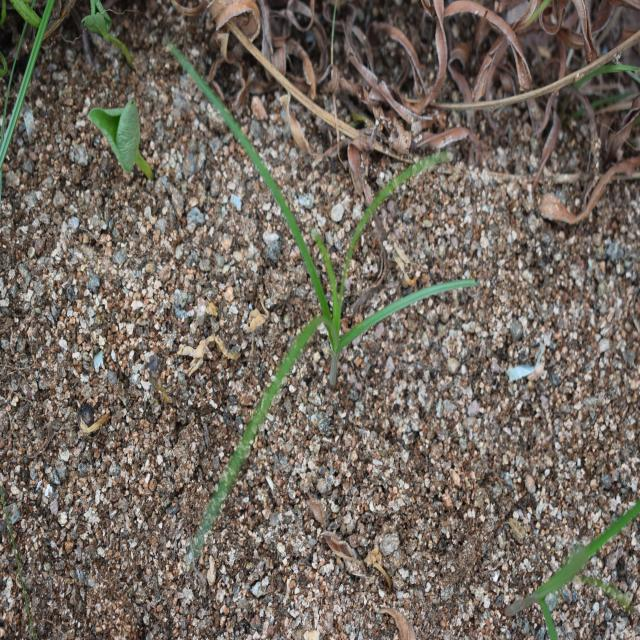sedge: (175, 97, 449, 448)
